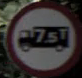Heavy Vehicles: (7, 7, 71, 72)
